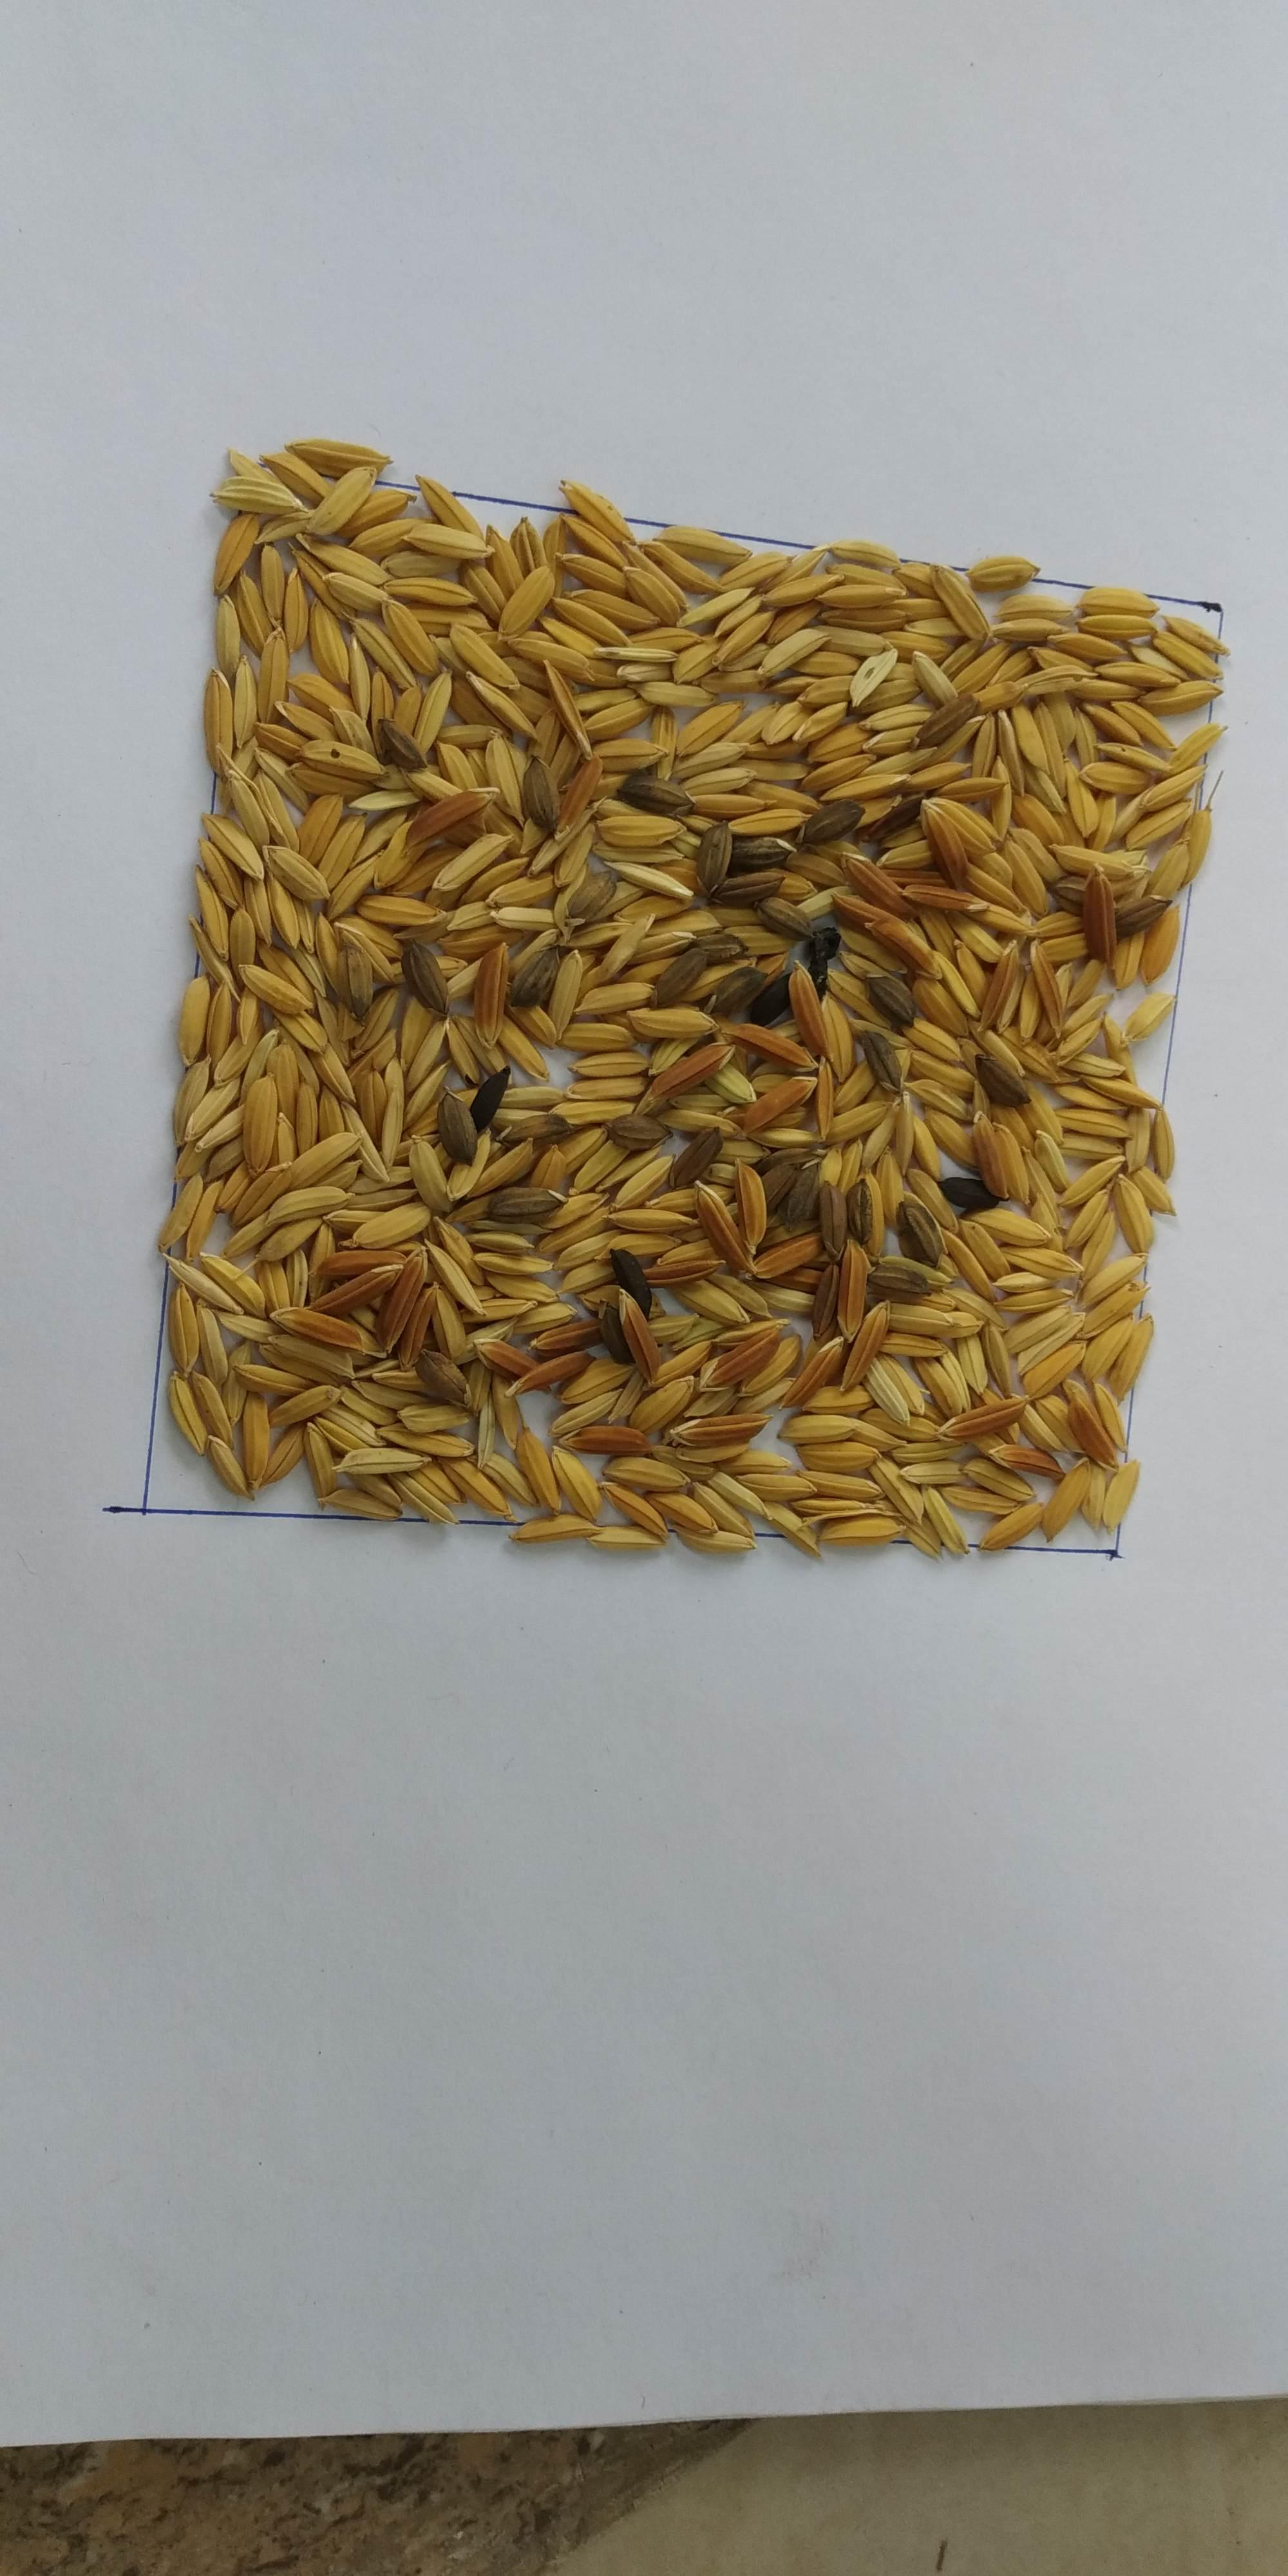impure: (230, 613, 1129, 1474)
